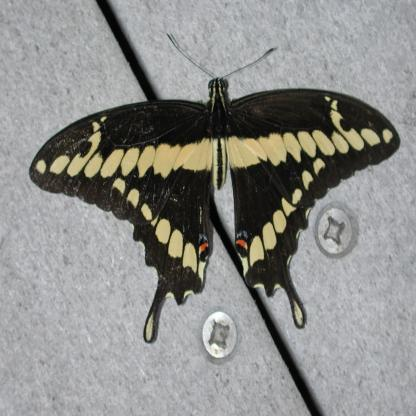Giant Swallowtail: (22, 45, 401, 372)
